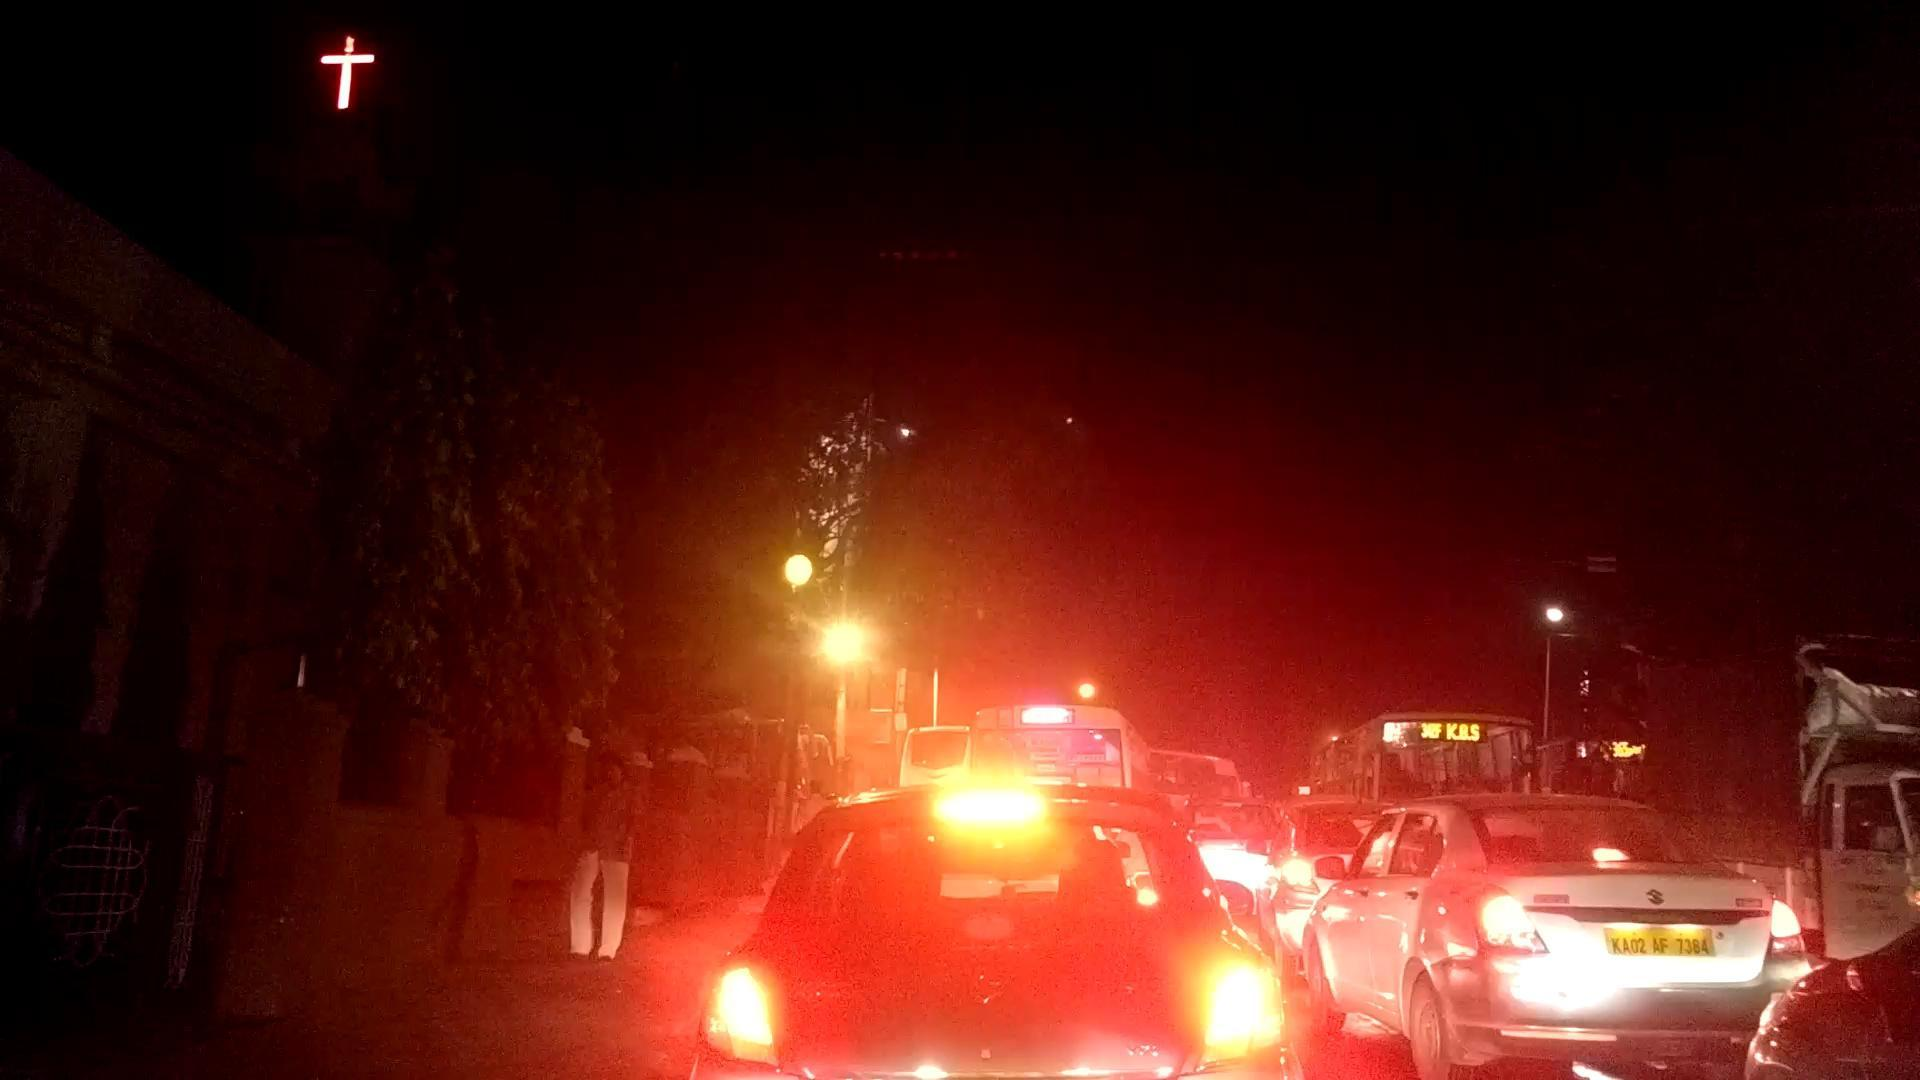on: (650, 472, 1015, 795)
